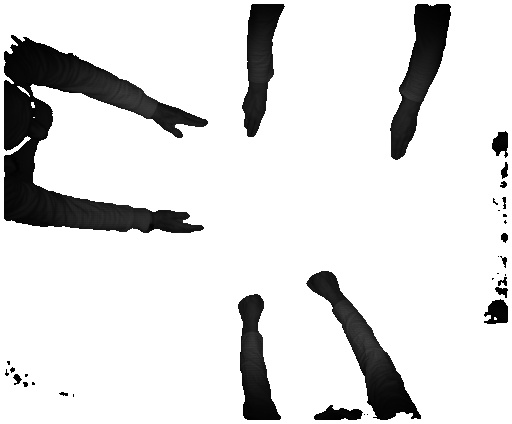fist: (304, 264, 346, 299), (232, 288, 263, 328)
hand: (384, 107, 423, 159), (158, 106, 207, 143), (240, 89, 271, 143), (157, 208, 207, 239)
